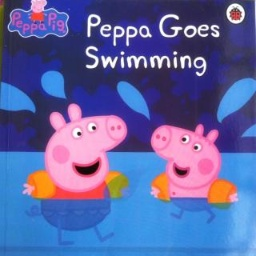Peppa: (22, 101, 131, 248)
